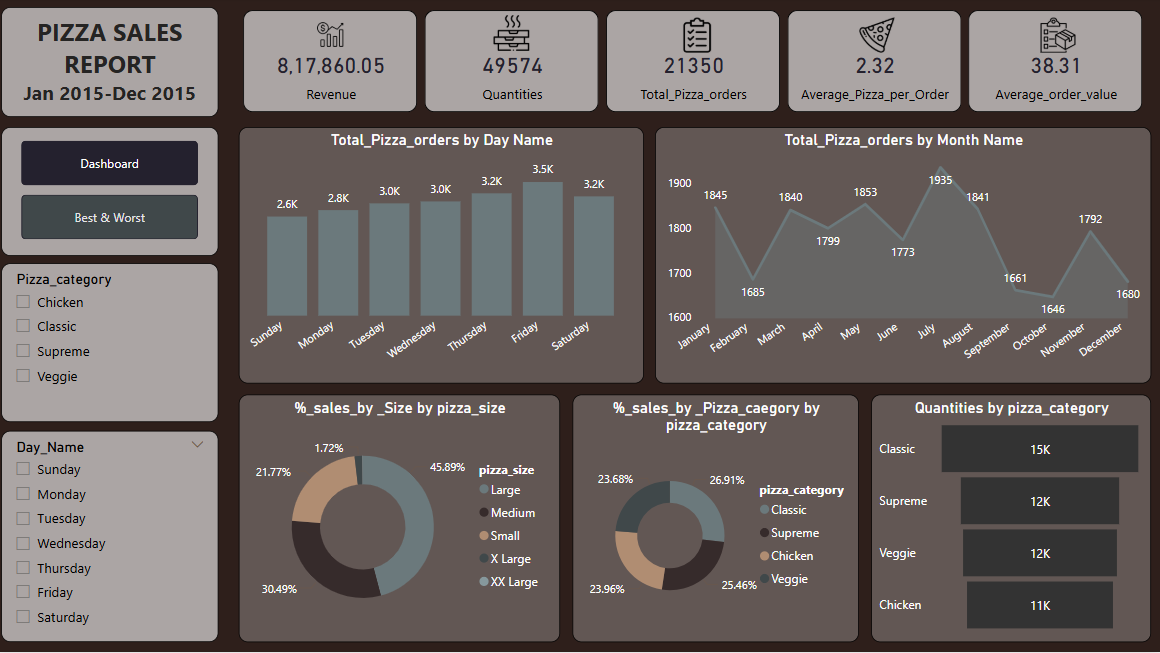

This screenshot's page, from the dashboard's own definition file:
{"tool":"powerbi","page":{"name":"Dashboard","canvas":[1280,720],"ordinal":0},"visuals":[{"type":"cardVisual","fields":{"Data":["All_measures.Revenue","All_measures.Quantities","All_measures.Total_Pizza_orders","All_measures.Average_Pizza_per_Order","All_measures.Average_order_value"]},"box":[267.6,9.6,1001.7,122.1],"z":0},{"type":"textbox","box":[6.9,11,238.8,120.8],"z":1000},{"type":"funnel","fields":{"Category":["pizza_sales.pizza_category"],"Y":["All_measures.Quantities"]},"box":[961.9,436.4,307.4,271.7],"z":2000},{"type":"clusteredColumnChart","fields":{"Category":["pizza_sales.Day Name"],"Y":["All_measures.Total_Pizza_orders"]},"box":[267.6,142.7,444.6,281.3],"z":3000},{"type":"donutChart","fields":{"Category":["pizza_sales.pizza_size"],"Y":["All_measures.%_sales_by _Size"]},"box":[267.6,436.4,352.7,271.7],"z":4000},{"type":"donutChart","fields":{"Category":["pizza_sales.pizza_category"],"Y":["All_measures.%_sales_by _Pizza_caegory"]},"box":[634,436.4,314.2,271.7],"z":5000},{"type":"shape","box":[6.9,142.7,238.8,141.3],"z":6000},{"type":"slicer","fields":{"Values":["pizza_sales.pizza_category"]},"box":[6.9,292.3,238.8,174.3],"z":7000},{"type":"slicer","fields":{"Values":["pizza_sales.Day Name"]},"box":[6.9,476.2,238.8,231.9],"z":8000},{"type":"pageNavigator","box":[28.8,157.8,194.9,109.8],"z":9000},{"type":"image","box":[944.1,17.8,48,48],"z":10000},{"type":"image","box":[347.2,22,41.2,38.4],"z":11000},{"type":"image","box":[739.6,17.8,61.7,48],"z":12000},{"type":"image","box":[1138.9,17.8,56.3,48],"z":13000},{"type":"image","box":[539.3,15.1,54.9,49.4],"z":14000},{"type":"areaChart","fields":{"Y":["All_measures.Total_Pizza_orders"],"Category":["pizza_sales.Month Name"]},"box":[724.5,142.7,544.8,281.3],"z":14001}]}

Visuals, with their boxes in screenshot pixels (x1, y1, x2, y2), scaled from the page's 1280x720 canvas onto the 1160x653 screenshot:
cardVisual - All_measures.Revenue x All_measures.Quantities: crop(243, 9, 1150, 119)
textbox: crop(6, 10, 223, 120)
funnel - pizza_sales.pizza_category x All_measures.Quantities: crop(872, 396, 1150, 642)
clusteredColumnChart - pizza_sales.Day Name x All_measures.Total_Pizza_orders: crop(243, 129, 645, 385)
donutChart - pizza_sales.pizza_size x All_measures.%_sales_by _Size: crop(243, 396, 562, 642)
donutChart - pizza_sales.pizza_category x All_measures.%_sales_by _Pizza_caegory: crop(575, 396, 859, 642)
shape: crop(6, 129, 223, 258)
slicer - pizza_sales.pizza_category: crop(6, 265, 223, 423)
slicer - pizza_sales.Day Name: crop(6, 432, 223, 642)
pageNavigator: crop(26, 143, 203, 243)
image: crop(856, 16, 899, 60)
image: crop(315, 20, 352, 55)
image: crop(670, 16, 726, 60)
image: crop(1032, 16, 1083, 60)
image: crop(489, 14, 538, 58)
areaChart - All_measures.Total_Pizza_orders x pizza_sales.Month Name: crop(657, 129, 1150, 385)
